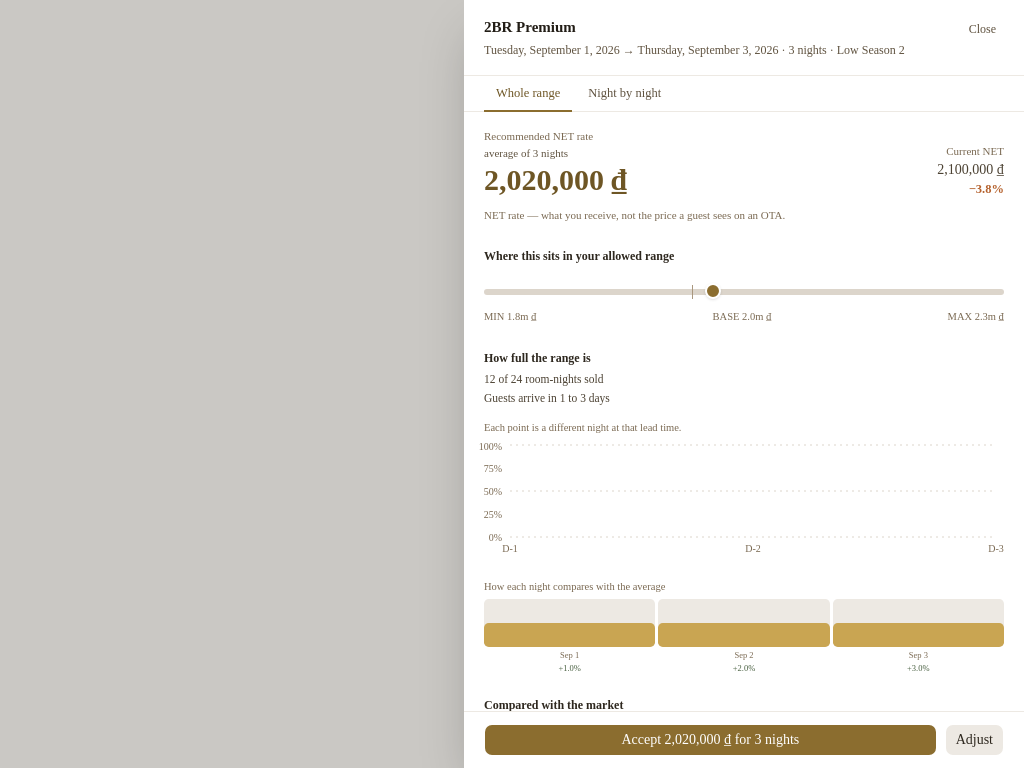
Test: RangeDrawer › draws the booking curve in both scopes
Expected: the text "Each point is a different night at that lead time." is shown, [484,422,682,432]
Expected: the text "with the dot marking this one" is not shown
Click the tab "Night by night".
click(625, 94)  # box [576,76,673,112]
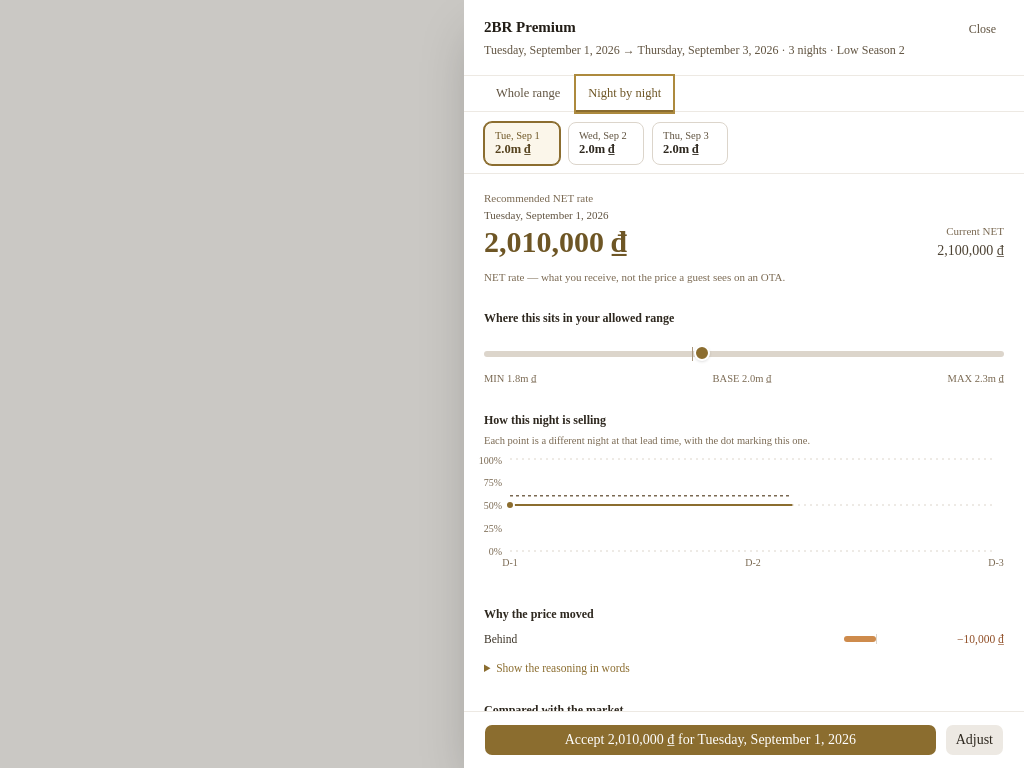
Expected: the text "with the dot marking this one" is shown, [484,435,810,446]
